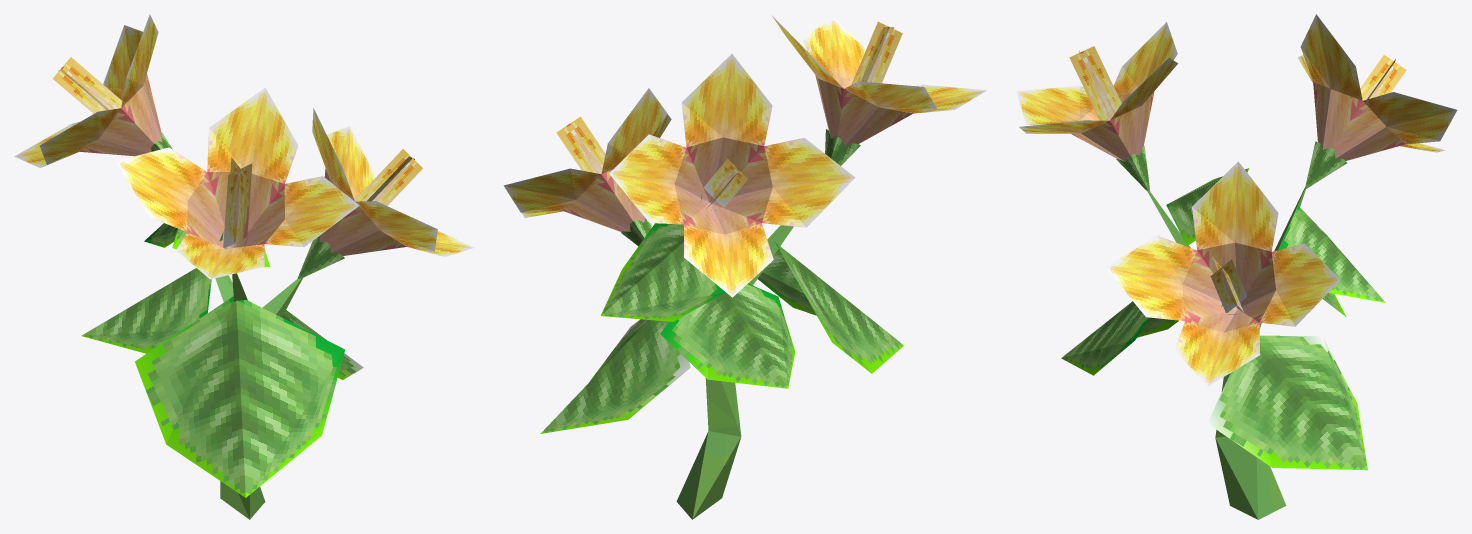
Rendered from floweryellow_bake.dae.
The picture shows the model from 3 angles, left to right: view 1: azimuth 30°, elevation 25°; view 2: azimuth 150°, elevation 25°; view 3: azimuth 270°, elevation 25°; orthographic projection. The views are drawn at different scales.
Visible parts, largest first — view 1: m0, m0_VC; view 2: m0, m0_VC; view 3: m0, m0_VC.
Boxes of the visible parts, x1,y1,x2,y2 form: m0: [18, 18, 469, 519]; m0_VC: [14, 14, 474, 497]; m0: [507, 18, 982, 519]; m0_VC: [503, 15, 986, 433]; m0: [1019, 18, 1453, 519]; m0_VC: [1016, 14, 1457, 470].
Size of the model in its own units: 65.32 by 78.92 by 67.69.
Materials: 2 (2 with a texture image).
